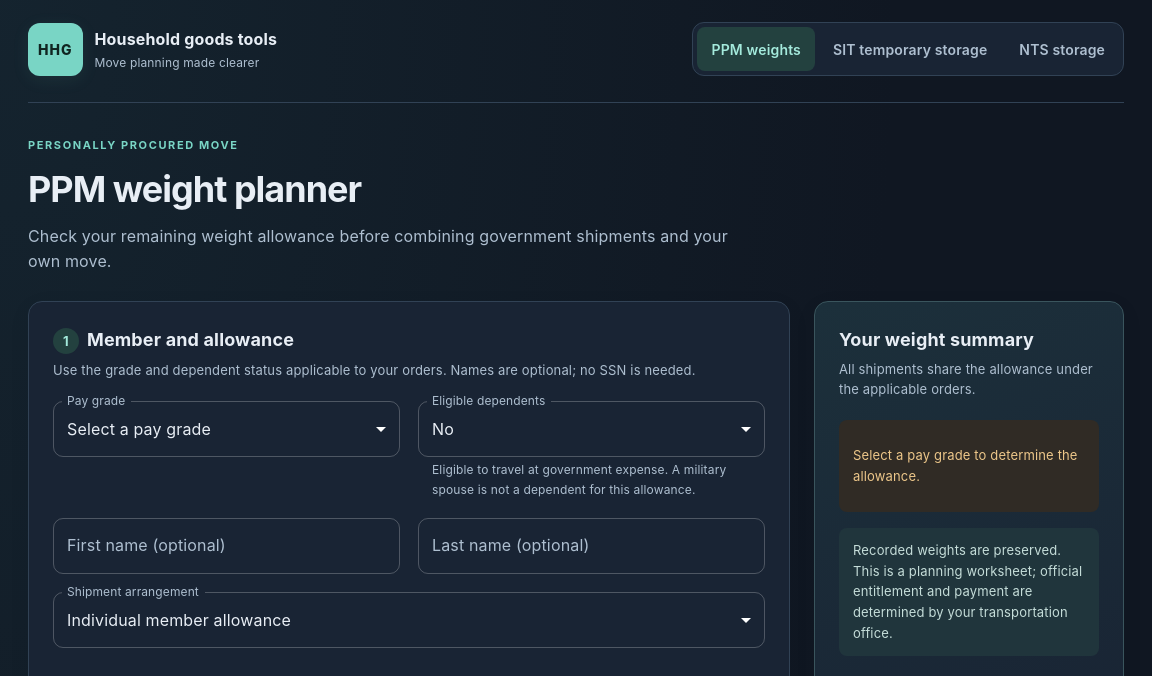
switching to civilian rules resets an incompatible packing draft
This screenshot has width=1152, height=676.
Select "E-5" in the dropdown labelled "Pay grade": x=226, y=429 [53,401,400,457]
(page scrolled)
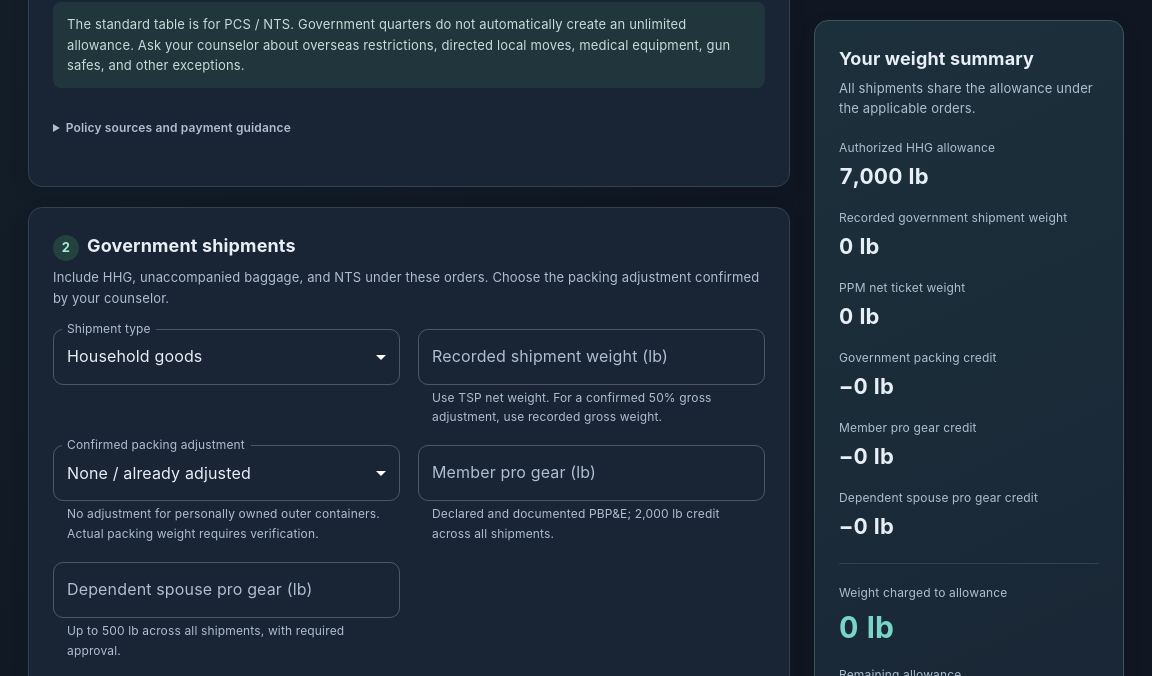
In the number field labelled "Recorded shipment weight (lb)": x=592, y=357 [418,329,765,385], type "1000"
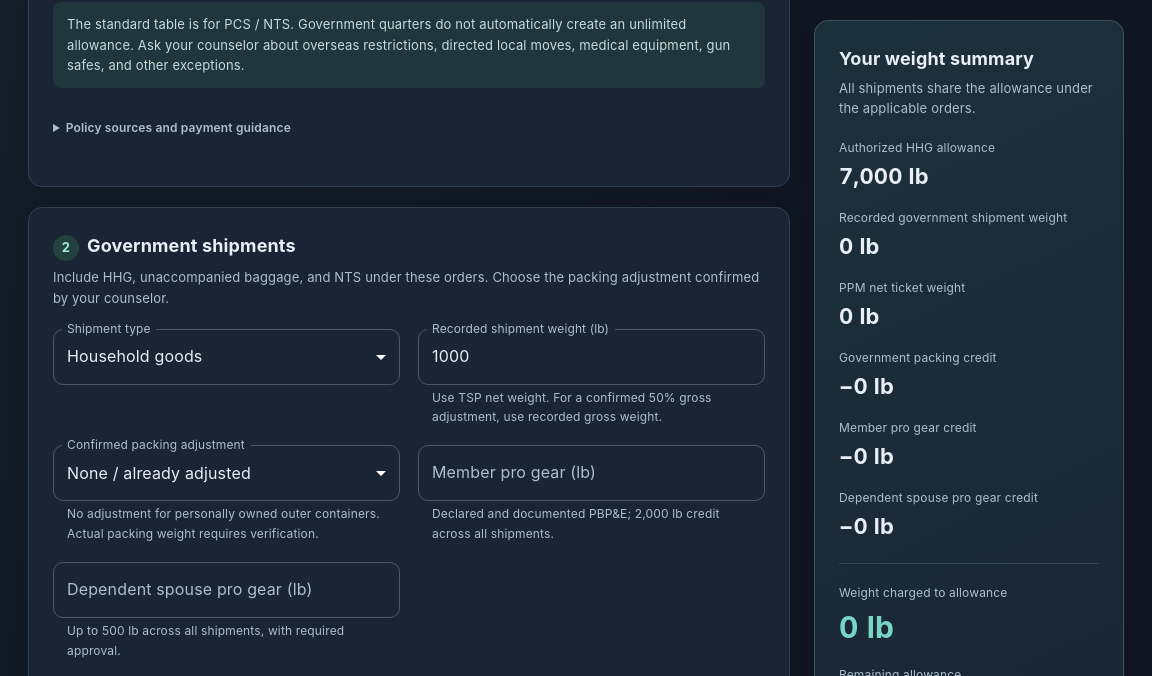
Select "50% of recorded gross weight (eligible UB/DPM)" in the dropdown labelled "Confirmed packing adjustment": x=226, y=473 [53,445,400,501]
(page scrolled)
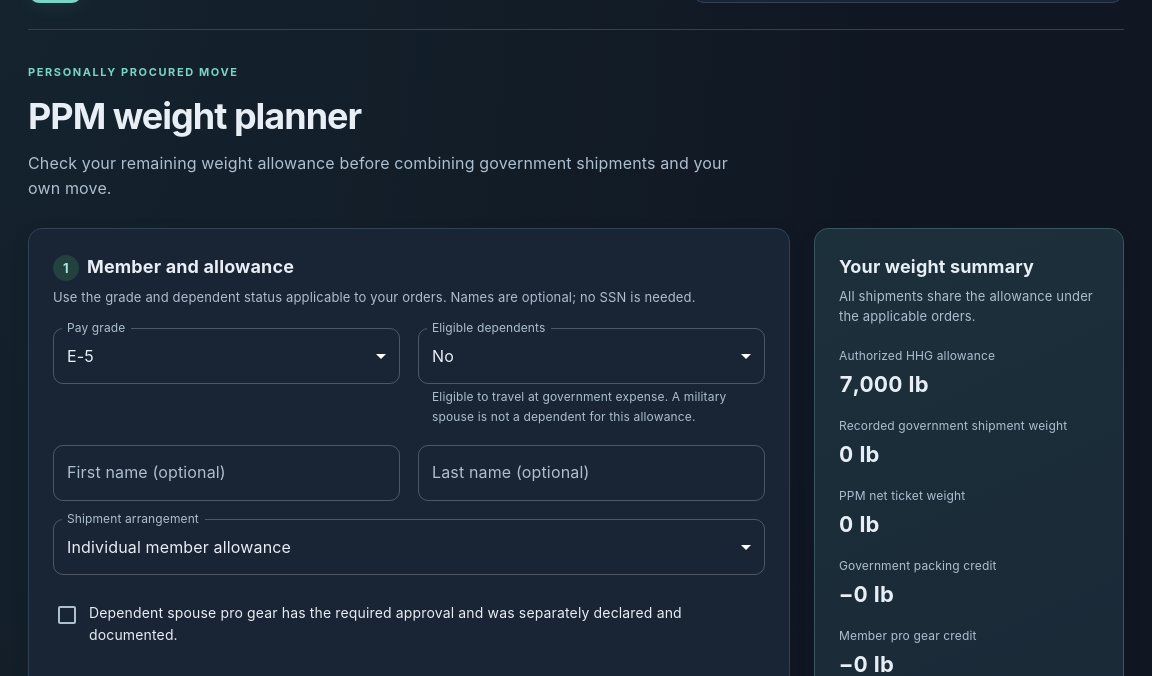
Select "DoD civilian" in the dropdown labelled "Pay grade": x=226, y=356 [53,328,400,384]
(page scrolled)
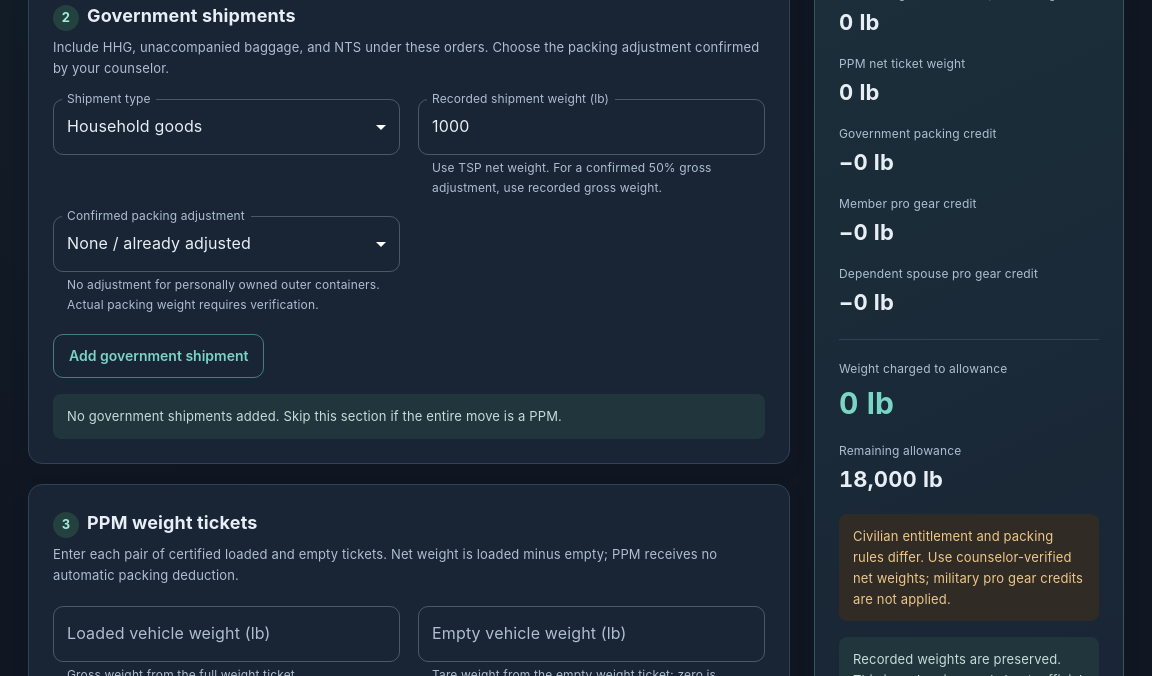
Click the button "Add government shipment": x=159, y=356 [53,334,264,378]
(page scrolled)
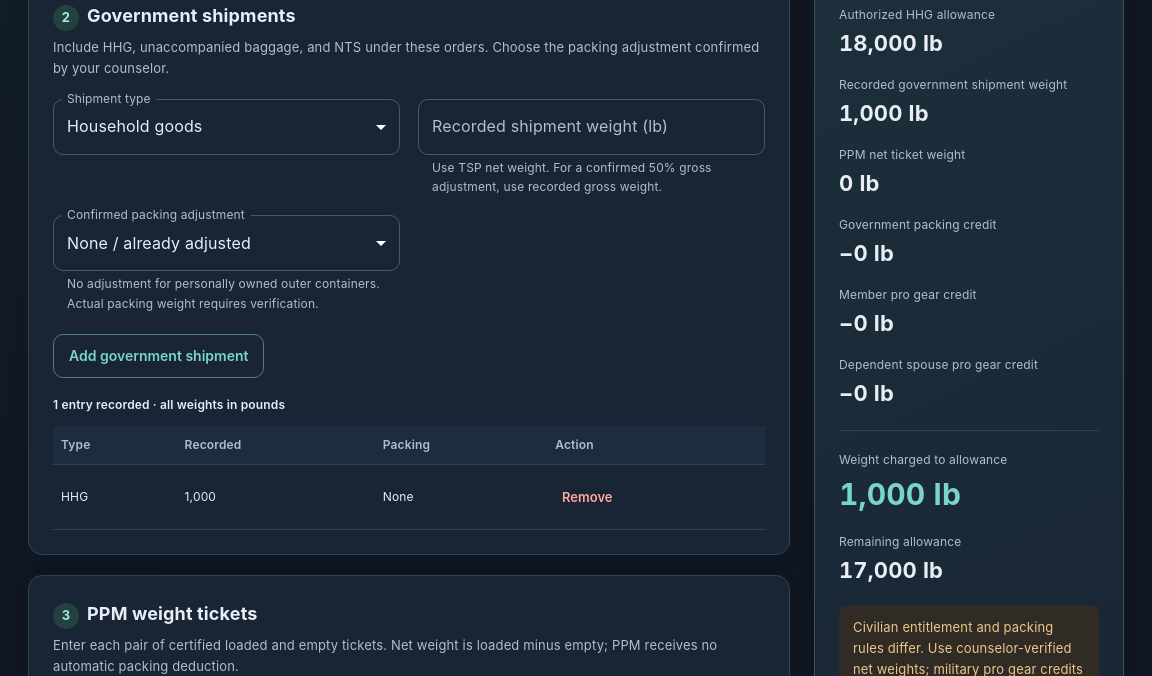
Expected: the text "17,000 lb" is shown, [839,557,943,583]
